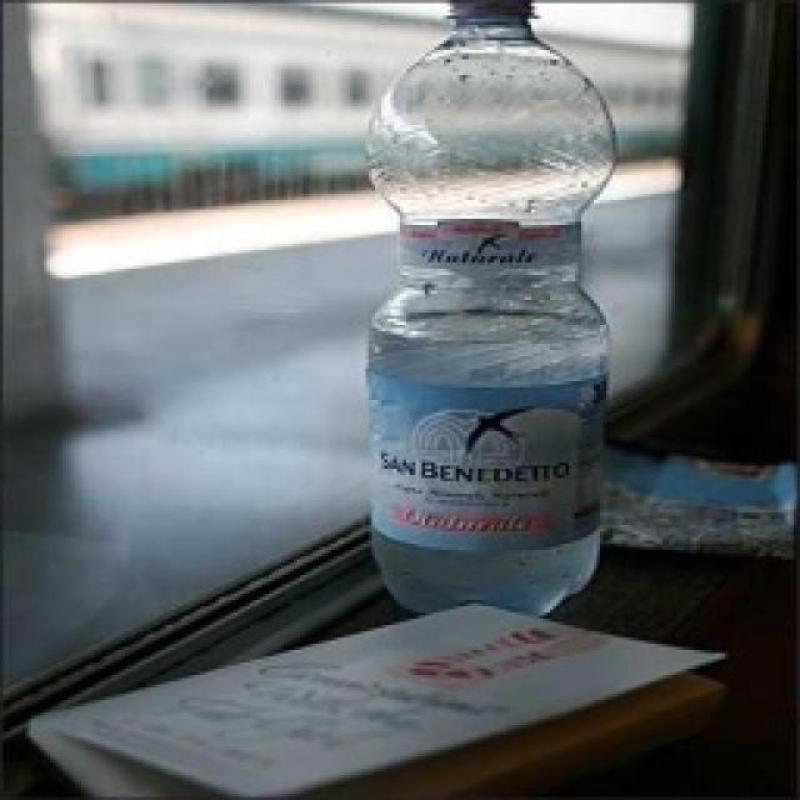botella: (367, 0, 621, 625)
